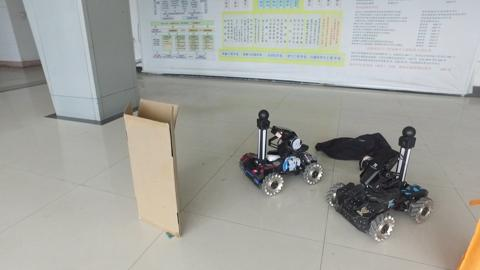box: (122, 95, 187, 232)
chariot: (328, 126, 436, 241), (241, 108, 321, 194)
